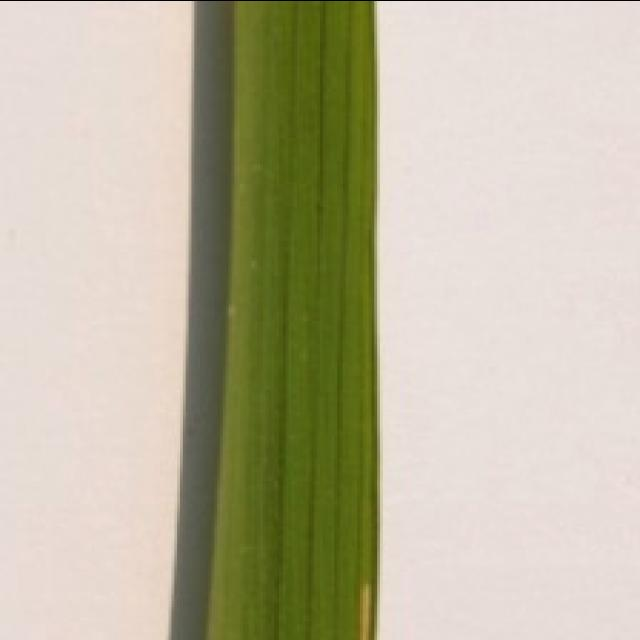Unhealthy: (360, 581, 372, 640)
